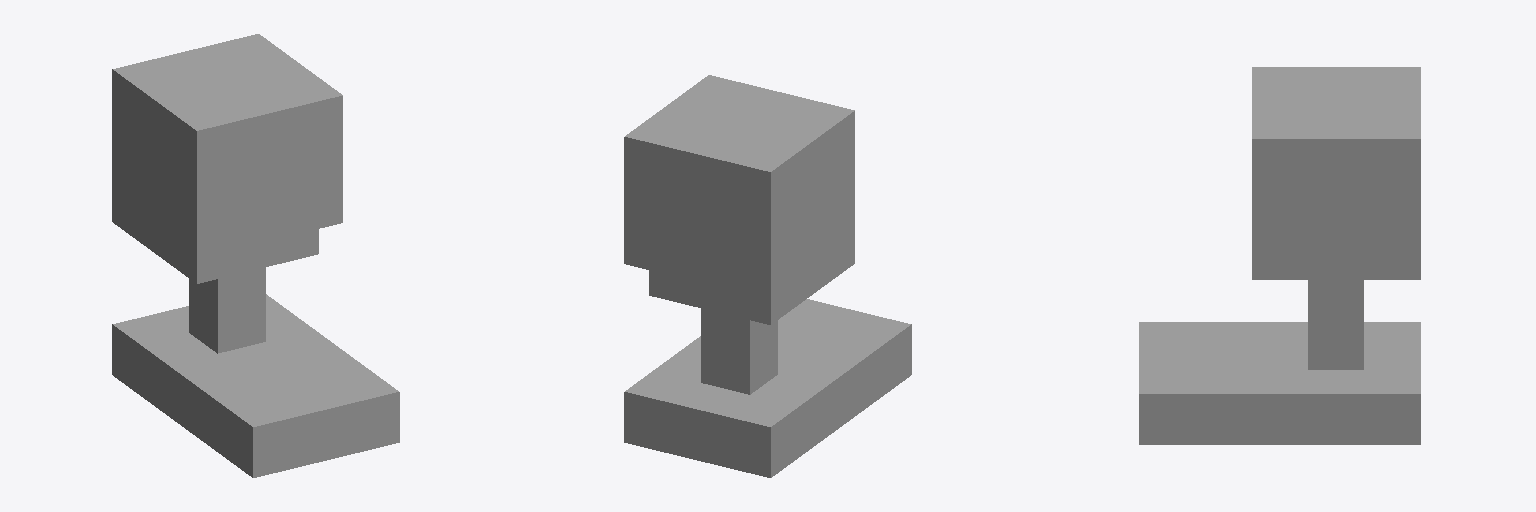
3 views of the same model, side by side, from view 1: azimuth 30°, elevation 25°; view 2: azimuth 150°, elevation 25°; view 3: azimuth 270°, elevation 25° (orthographic).
Parts seen in each view (by area): view 1: Player_LFoot; view 2: Player_LFoot; view 3: Player_LFoot.
Boxes of the visible parts, x1=… form: Player_LFoot: x1=112, y1=34, x2=399, y2=477; Player_LFoot: x1=624, y1=75, x2=911, y2=477; Player_LFoot: x1=1139, y1=67, x2=1420, y2=444.
Bounding box in the file's own units: 0.6 × 1.2 × 1.
Materials: 1 (1 with a texture image).